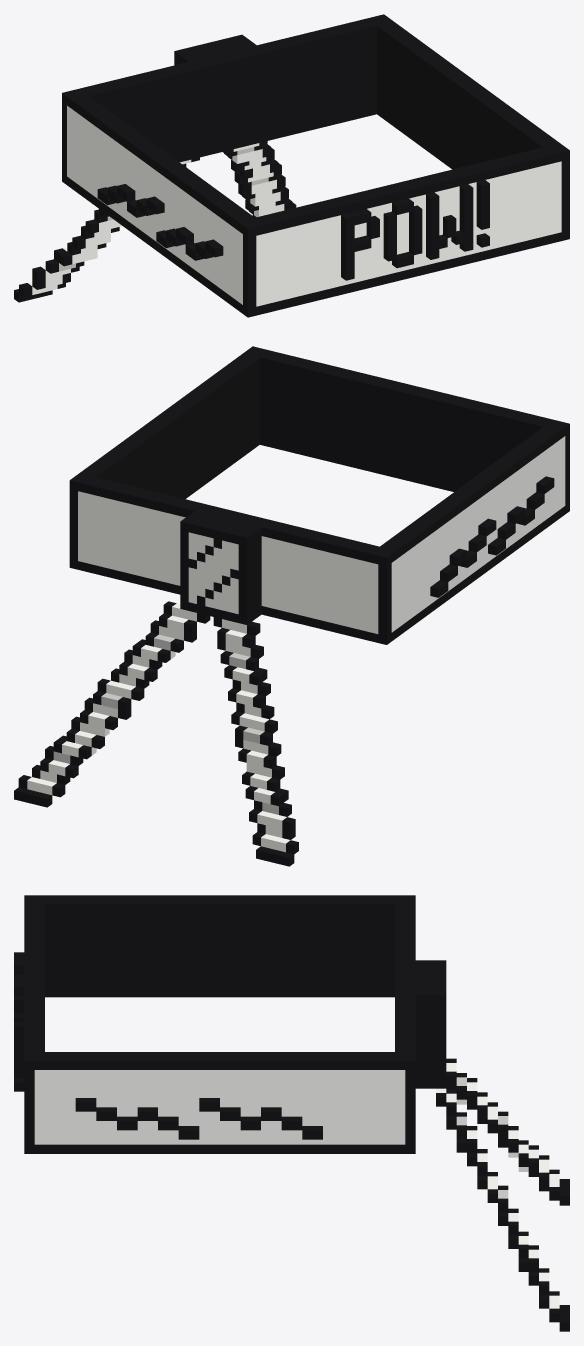
File: comic_headband_hat.glb
3 renders of one model, top to bottom at view 1: azimuth 30°, elevation 25°; view 2: azimuth 150°, elevation 25°; view 3: azimuth 270°, elevation 25°, orthographic. The views are drawn at different scales.
Parts seen in each view (by area): view 1: Cloudy Comic Headband Band; view 2: Cloudy Comic Headband Band; view 3: Cloudy Comic Headband Band.
Part boxes in pixels (box(x1,y1,x2,y2)): Cloudy Comic Headband Band: box(14, 14, 569, 317); Cloudy Comic Headband Band: box(14, 346, 569, 866); Cloudy Comic Headband Band: box(14, 895, 569, 1331).
Size of the model in its own units: 0.625 by 0.4688 by 0.8438.
Materials: 1 (1 with a texture image).
